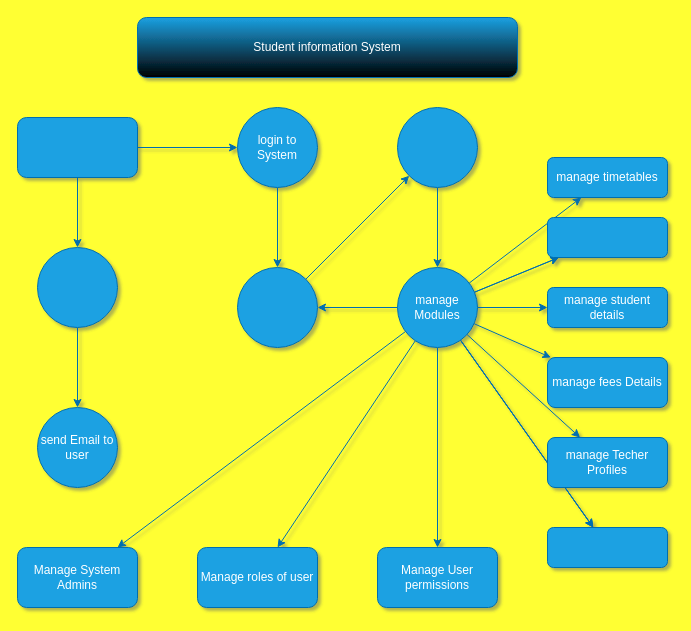
The diagram is 691 pixels wide and 631 high, and some of its shapes have lost their labels. The shapes that lost their labels are listed below. From the top down, each one's centre as x and y in pixels, then its label:
At [77,147]: "Admin".
At [437,147]: "Chick Roles of Access".
At [607,237]: "manage attendence details".
At [77,287]: "Forgot password".
At [277,307]: "Check Credentials".
At [607,547]: "manage report".
